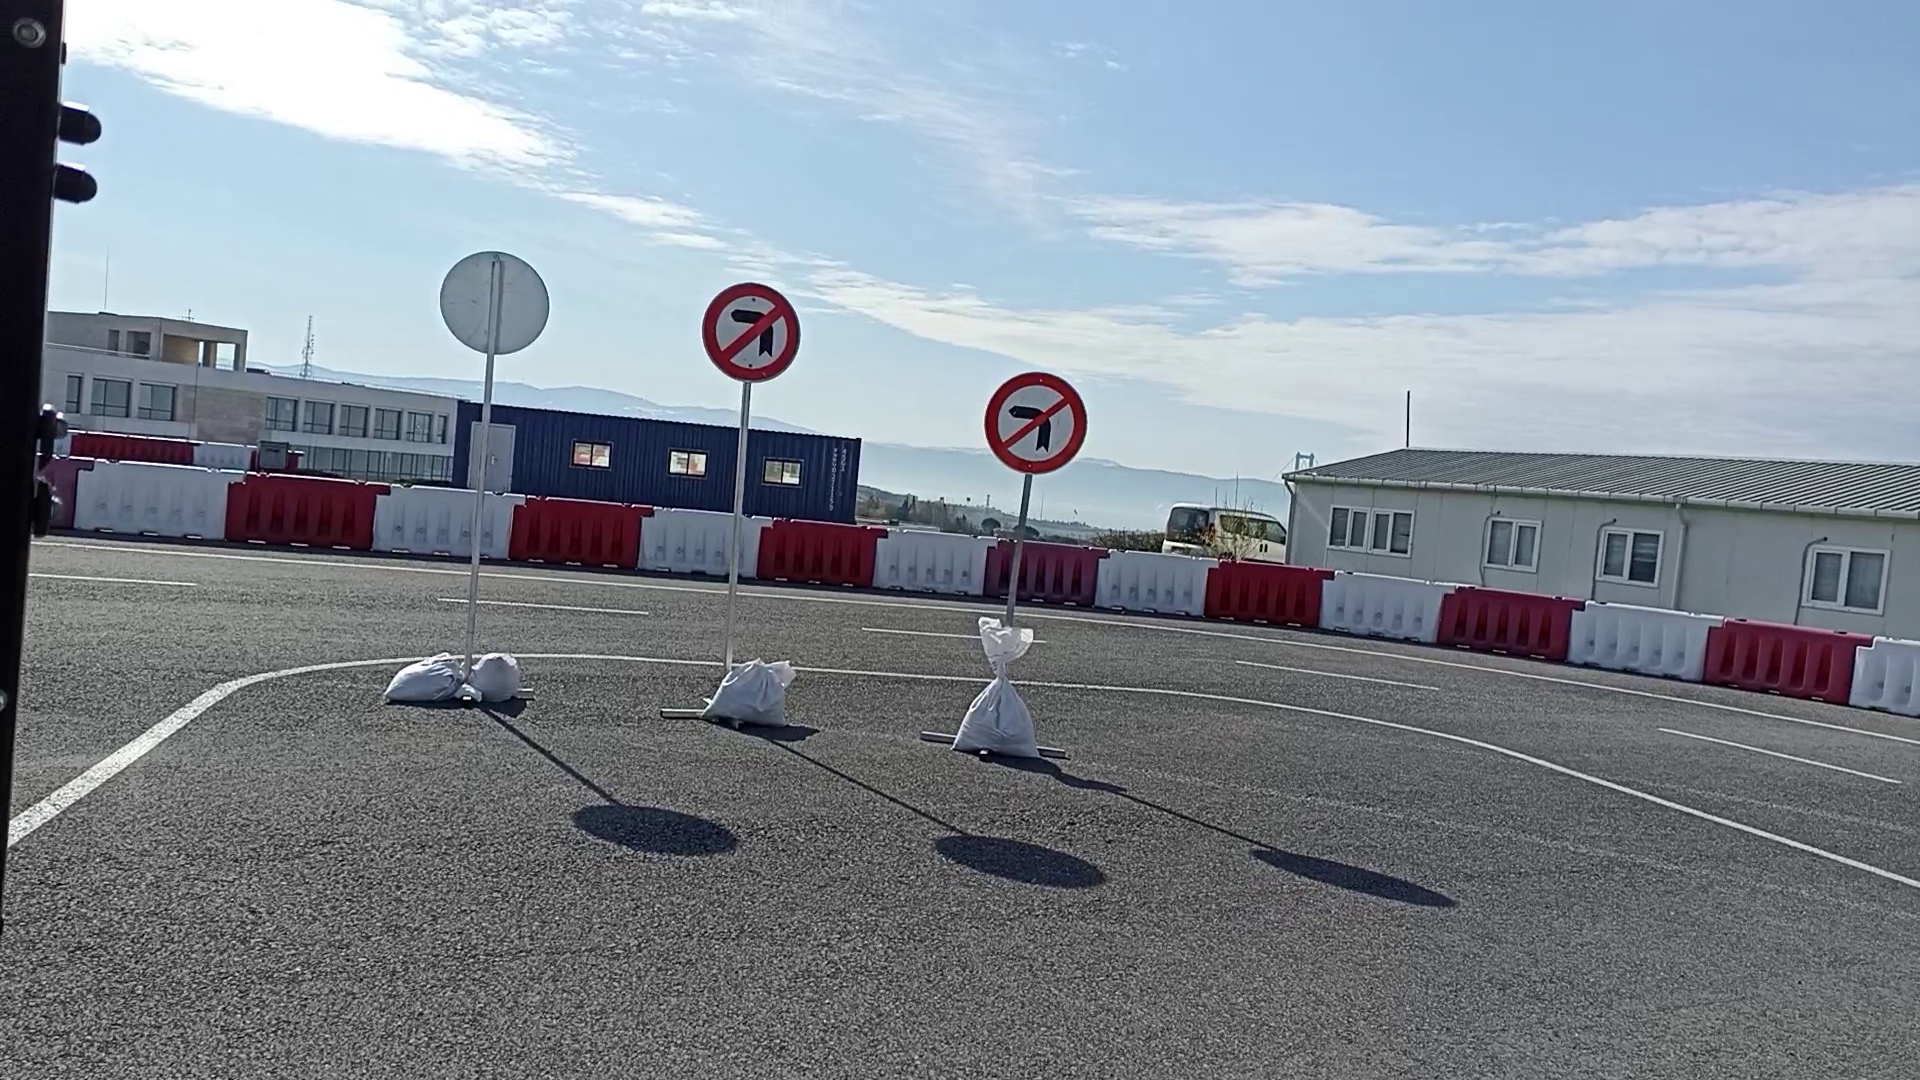noleft: (982, 371, 1089, 476), (700, 281, 800, 382)
